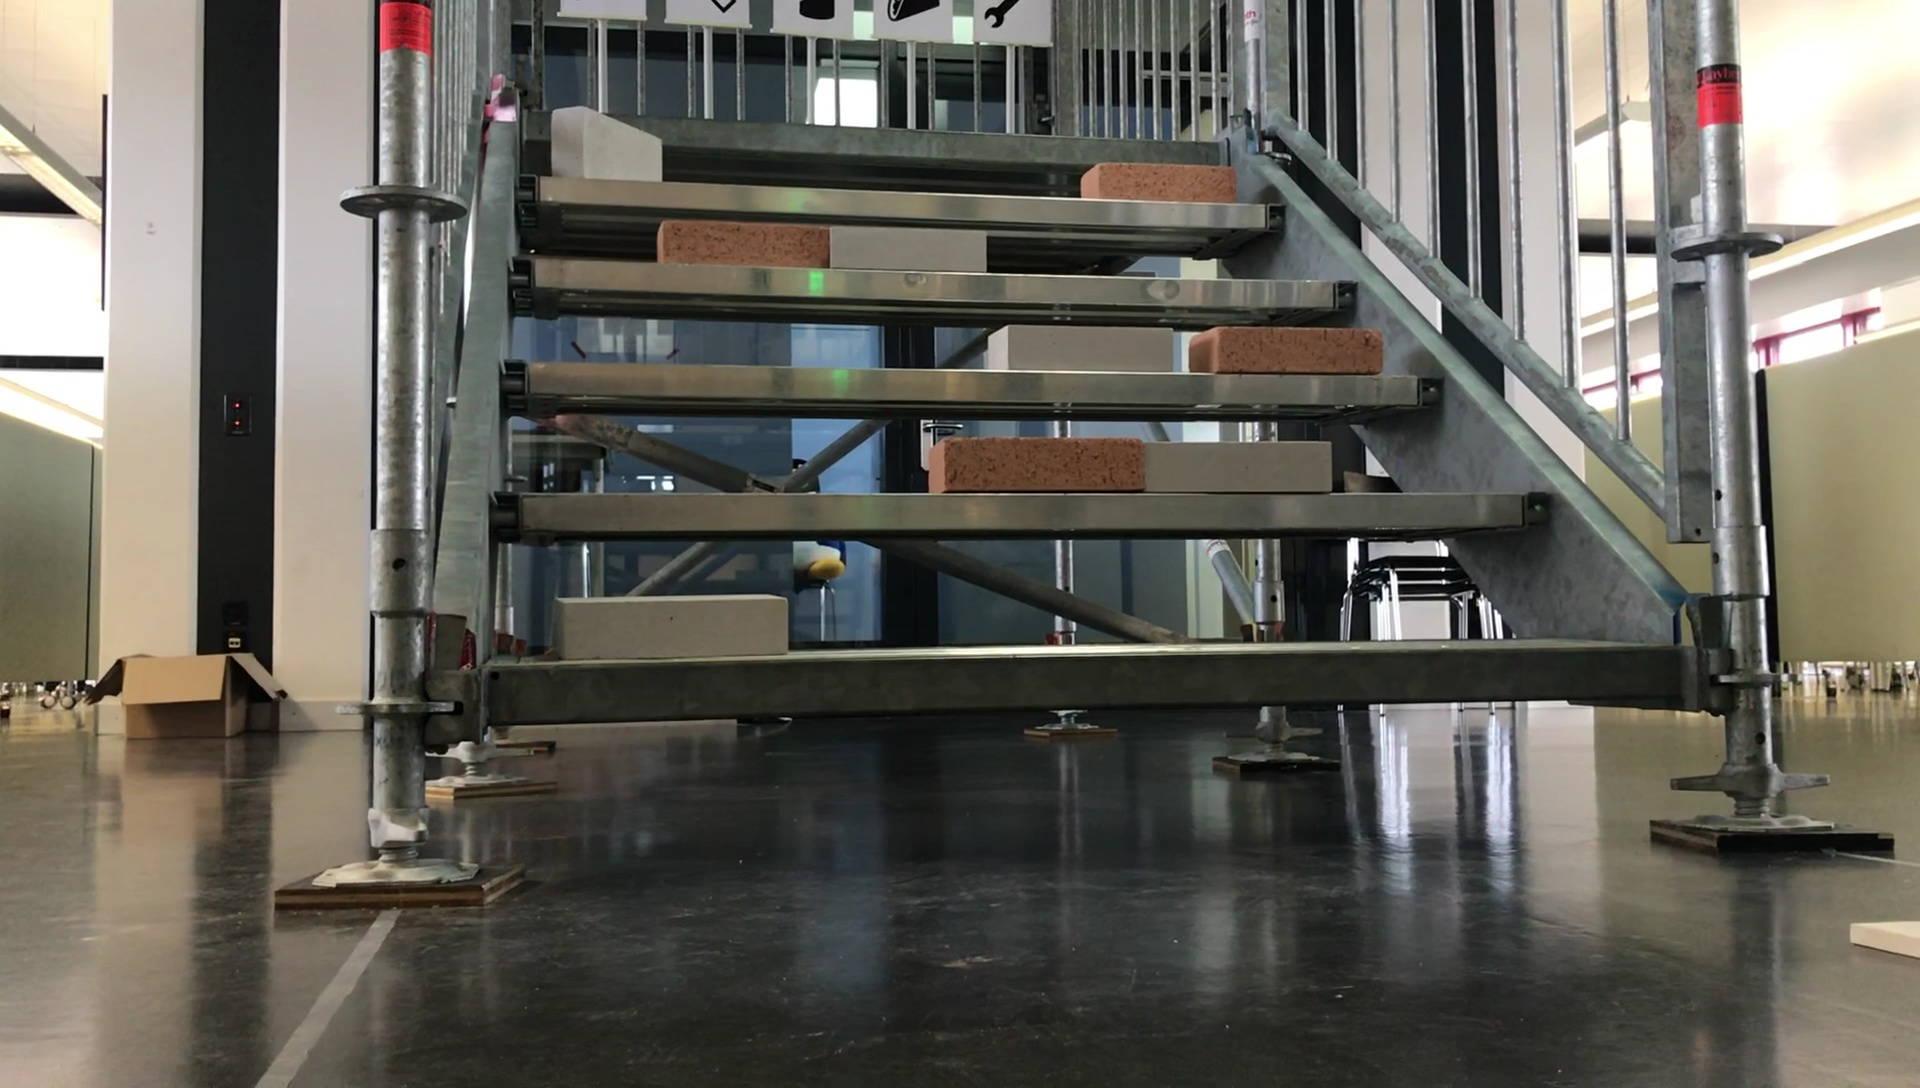brick: (554, 582, 790, 659), (923, 437, 1135, 487), (988, 320, 1174, 376), (1139, 437, 1331, 488), (1187, 324, 1396, 371), (549, 107, 665, 179), (645, 218, 819, 262), (825, 220, 994, 265), (1077, 165, 1244, 200)
edge: (488, 663, 1687, 699), (509, 487, 1577, 524), (501, 367, 1437, 406), (514, 194, 1290, 235), (502, 115, 1230, 158), (514, 266, 1366, 290)
stairs: (378, 1, 1749, 855)
steps: (430, 124, 1712, 711)
